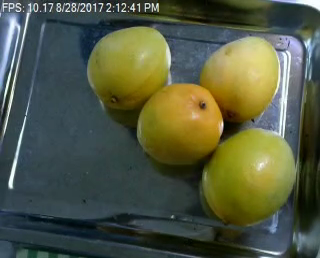Mango: (202, 124, 293, 222), (86, 25, 171, 114), (135, 84, 226, 163), (202, 35, 281, 120)
